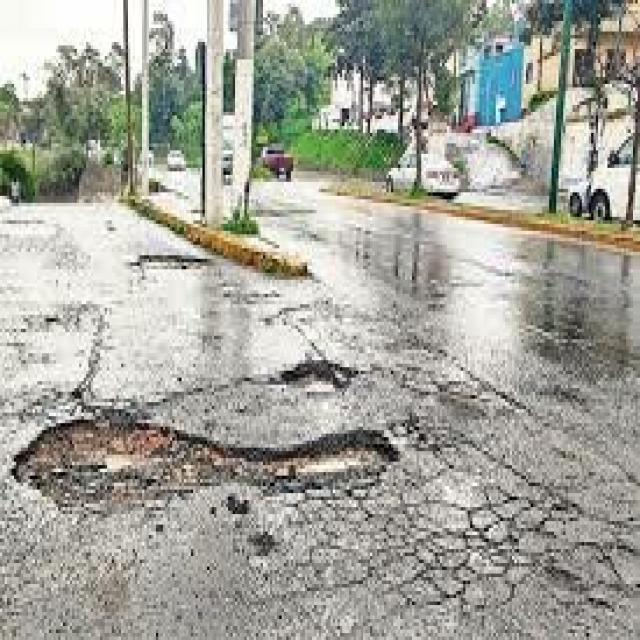Pothole: (14, 318, 468, 616)
